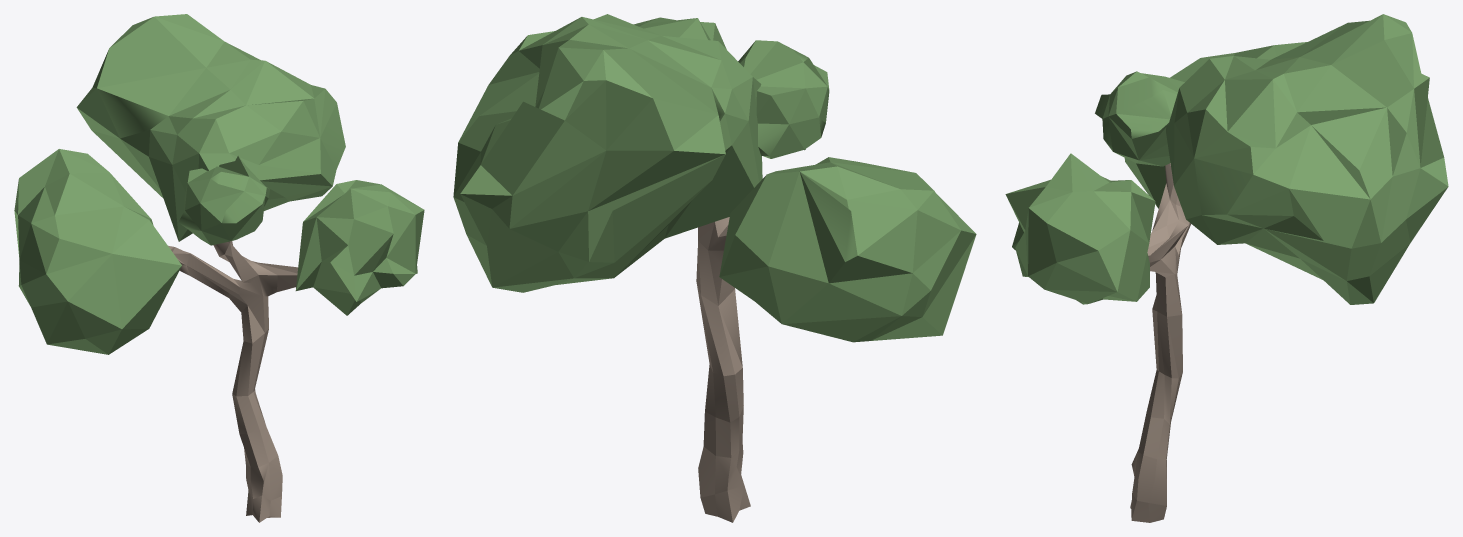
The model's file is tree3.fbx.
The picture shows the model from 3 angles, left to right: view 1: azimuth 30°, elevation 25°; view 2: azimuth 150°, elevation 25°; view 3: azimuth 270°, elevation 25°; orthographic projection. The views are drawn at different scales.
Parts seen in each view (by area): view 1: pSolid43, pSolid42, pSolid44, pCube10, pSolid41; view 2: pSolid43, pSolid42, pCube10, pSolid41, pSolid44; view 3: pSolid43, pSolid44, pCube10, pSolid41, pSolid42.
Part boxes in pixels (<box>): pSolid43: <box>76,14,345,241</box>; pSolid42: <box>14,149,181,354</box>; pSolid44: <box>295,180,424,315</box>; pCube10: <box>168,241,298,522</box>; pSolid41: <box>178,156,269,245</box>; pSolid43: <box>453,14,762,292</box>; pSolid42: <box>719,157,976,342</box>; pCube10: <box>696,217,750,522</box>; pSolid41: <box>738,40,829,158</box>; pSolid44: <box>633,17,726,49</box>; pSolid43: <box>1166,14,1448,304</box>; pSolid44: <box>1005,153,1155,304</box>; pCube10: <box>1130,163,1190,522</box>; pSolid41: <box>1095,71,1184,166</box>; pSolid42: <box>1124,42,1306,208</box>.
Bounding box in the file's own units: 9.58 × 11.82 × 9.5.
